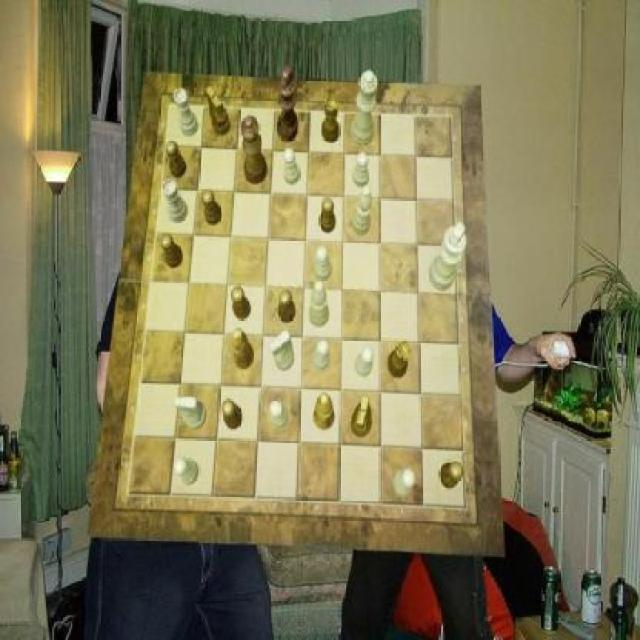bishop: (232, 328, 255, 369), (312, 392, 335, 431)
black-bishop: (277, 65, 298, 142)
black-king: (206, 86, 231, 137), (351, 395, 373, 437)
black-knight: (160, 232, 183, 267), (166, 140, 186, 178), (203, 190, 223, 226), (231, 288, 251, 322), (438, 462, 462, 489), (223, 400, 243, 431), (279, 289, 296, 323), (320, 199, 337, 233)
black-pawn: (240, 116, 268, 184)
black-queen: (388, 340, 410, 378), (322, 97, 339, 145)
black-rook: (352, 184, 372, 236), (309, 280, 330, 326)
white-bishop: (429, 222, 467, 290)
white-king: (175, 397, 208, 431), (271, 331, 295, 371)
white-knight: (174, 457, 198, 485), (283, 146, 300, 184), (392, 469, 415, 497), (354, 152, 371, 187), (316, 246, 332, 281), (356, 346, 374, 377), (314, 340, 331, 372), (270, 400, 288, 428)
white-pawn: (351, 70, 378, 146)
white-queen: (174, 89, 198, 137), (163, 178, 189, 222)
